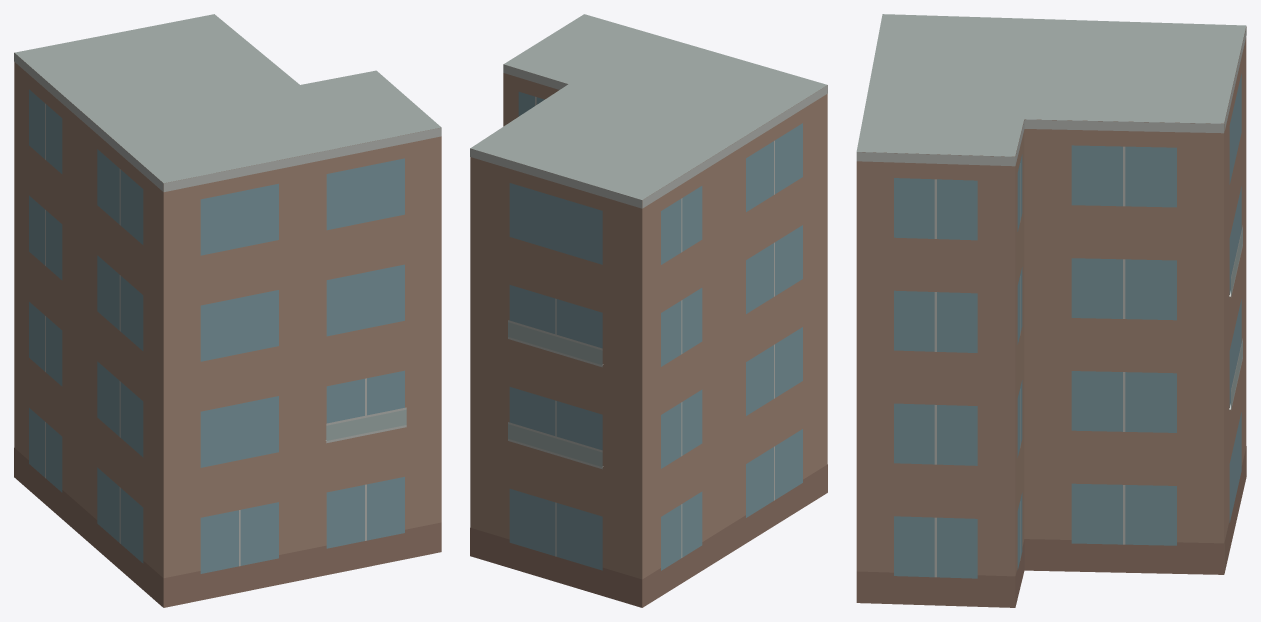
File: survey-upis-32814932.glb
The picture shows the model from 3 angles, left to right: view 1: azimuth 30°, elevation 25°; view 2: azimuth 150°, elevation 25°; view 3: azimuth 270°, elevation 25°; orthographic projection. The views are drawn at different scales.
Parts seen in each view (by area): view 1: survey-upis-32814932.tmp; view 2: survey-upis-32814932.tmp; view 3: survey-upis-32814932.tmp.
Boxes of the visible parts, <box> form: survey-upis-32814932.tmp: <box>14,14,441,607</box>; survey-upis-32814932.tmp: <box>470,14,827,607</box>; survey-upis-32814932.tmp: <box>856,14,1246,607</box>.
Bounding box in the file's own units: 7.88 × 11.6 × 9.1.
